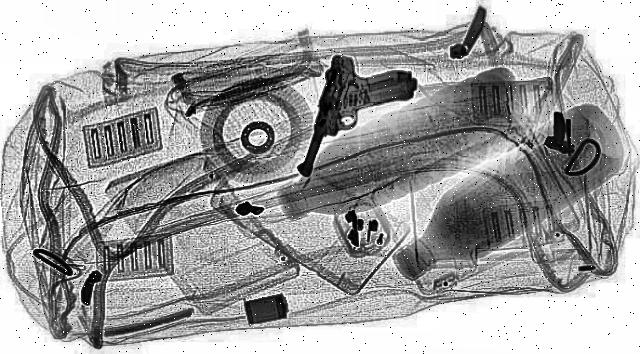Gun: (282, 55, 428, 181)
